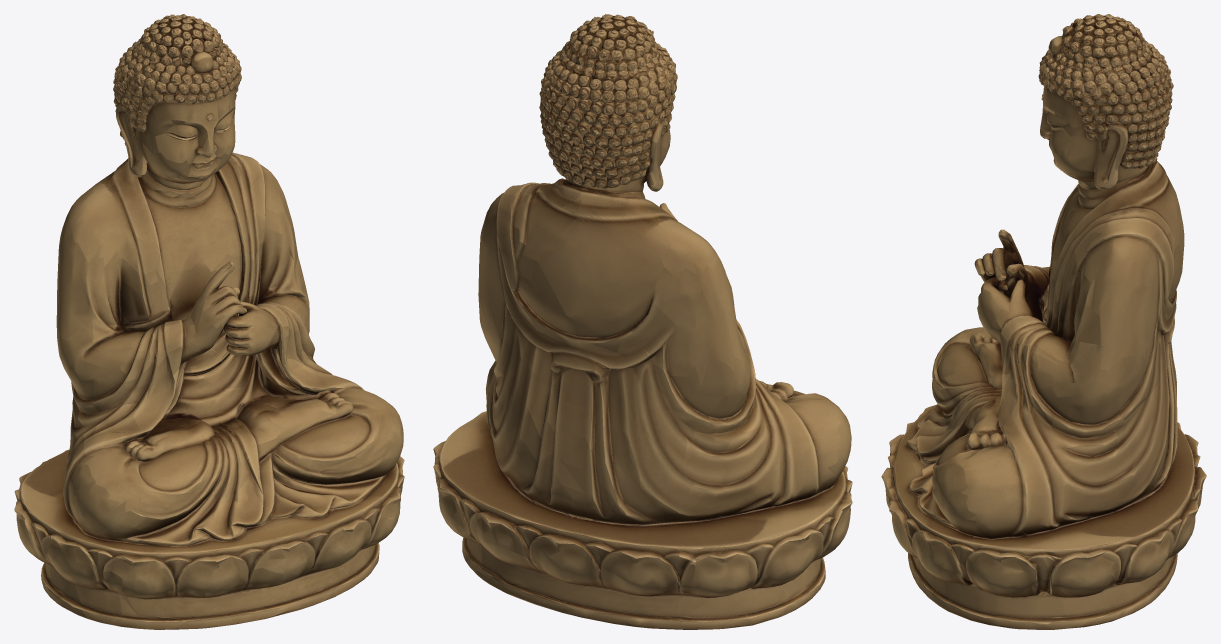
File: Meshy_AI_Korean_style_seated_V_1116074130_texture.glb
The picture shows the model from 3 angles, left to right: view 1: azimuth 30°, elevation 25°; view 2: azimuth 150°, elevation 25°; view 3: azimuth 270°, elevation 25°; orthographic projection. The views are drawn at different scales.
Parts seen in each view (by area): view 1: output_unwrapped; view 2: output_unwrapped; view 3: output_unwrapped.
Part boxes in pixels (x1,y1,x2,y2): output_unwrapped: (14,14,404,629); output_unwrapped: (433,14,852,629); output_unwrapped: (881,14,1206,629).
Size of the model in its own units: 1.32 by 1.9 by 1.04.
1 material, 1 textured.
